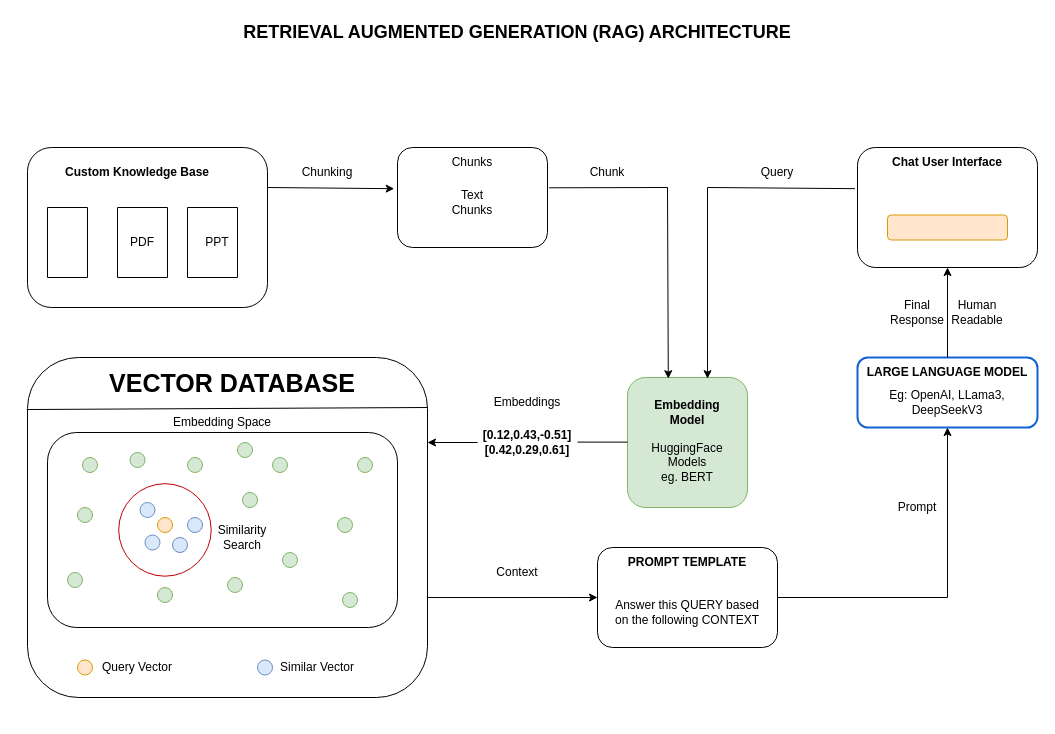
This 1055x734 diagram has some shape labels left out. Each missing label, with the centre of its shape:
"DOC" goes at point 67,242.
"query..." goes at point 947,227.
